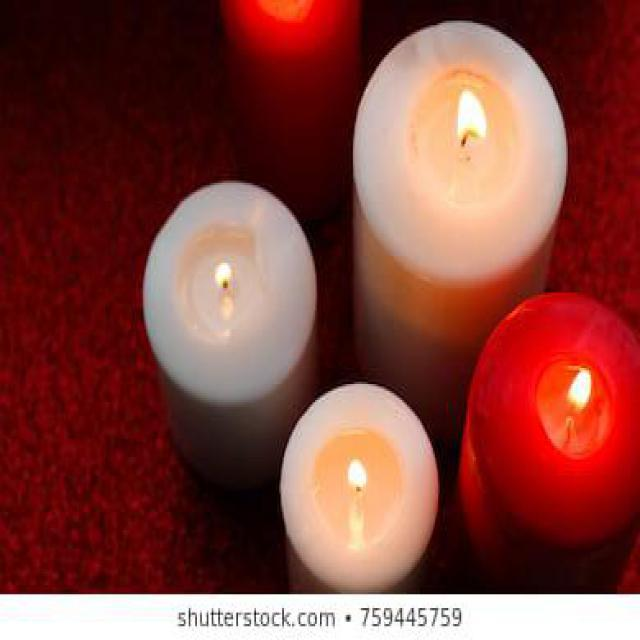Fire: (458, 89, 489, 146), (568, 372, 594, 414), (346, 457, 368, 487), (213, 260, 233, 288)
